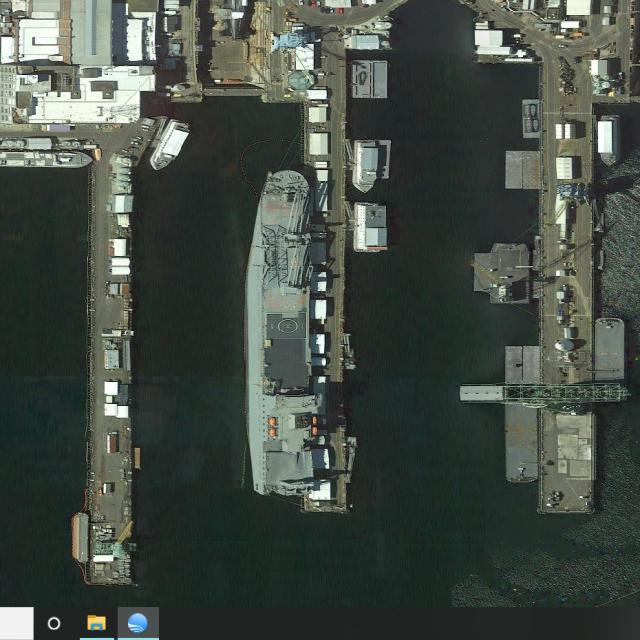Cargo: (243, 168, 322, 497)
Dock: (540, 100, 590, 507), (87, 151, 131, 582), (301, 108, 345, 512)
Other Ship: (145, 112, 196, 177), (598, 114, 621, 171), (354, 139, 377, 194)
